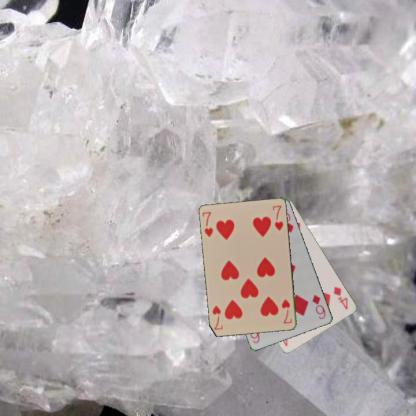4d: (331, 284, 349, 311)
6d: (310, 292, 327, 321)
7h: (279, 297, 294, 325), (200, 209, 214, 238)
